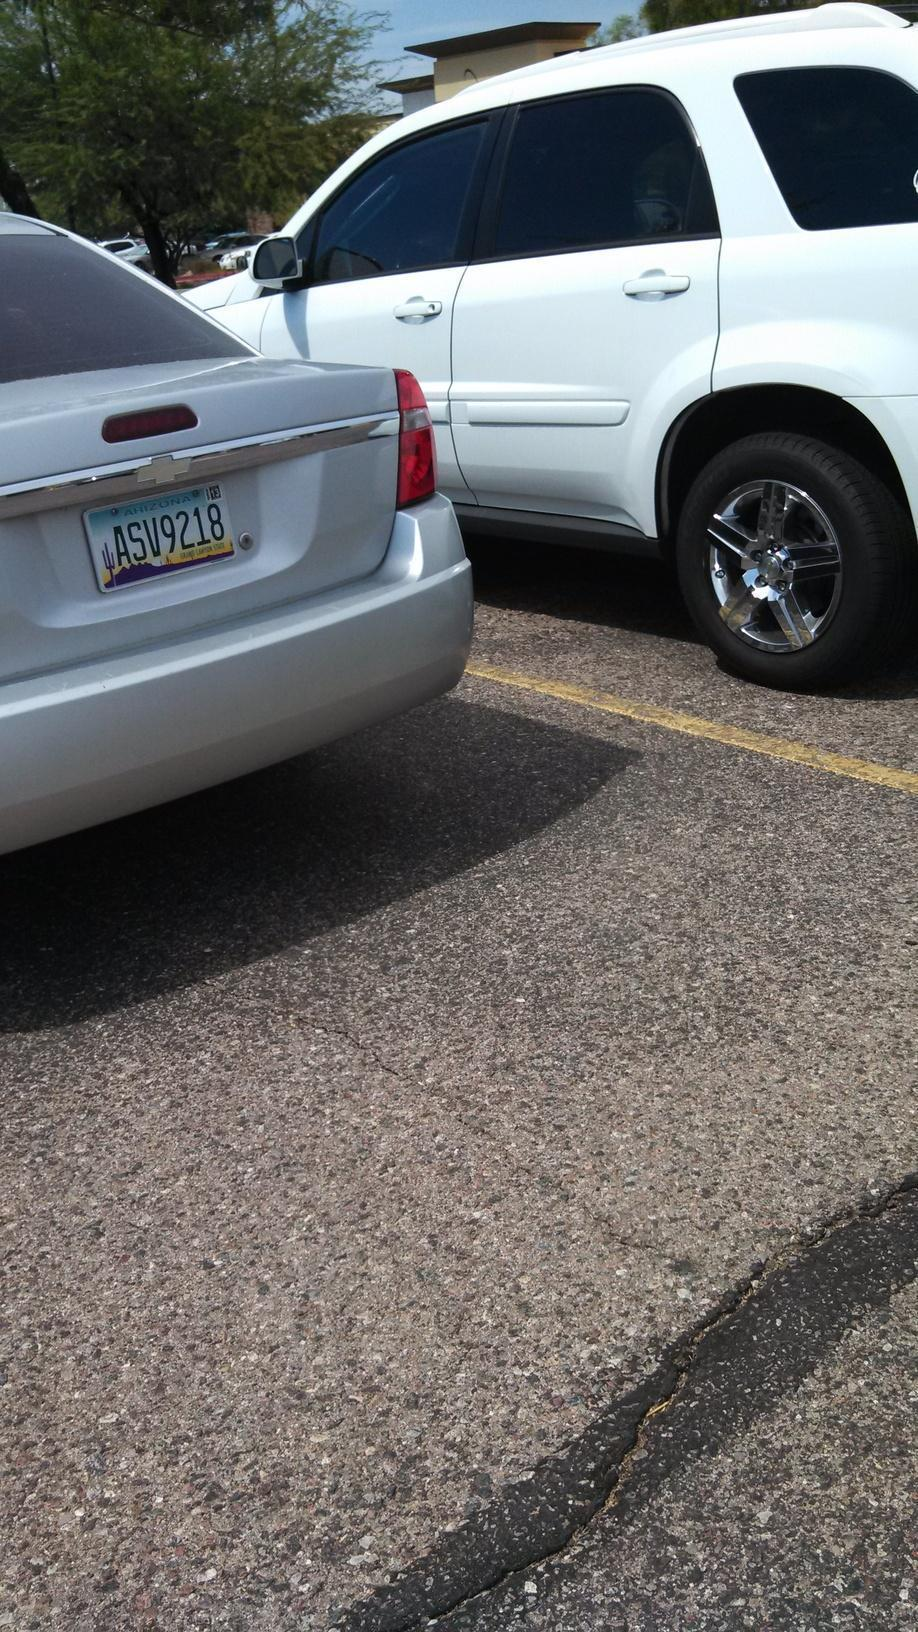placa de veiculo: (62, 483, 268, 592)
